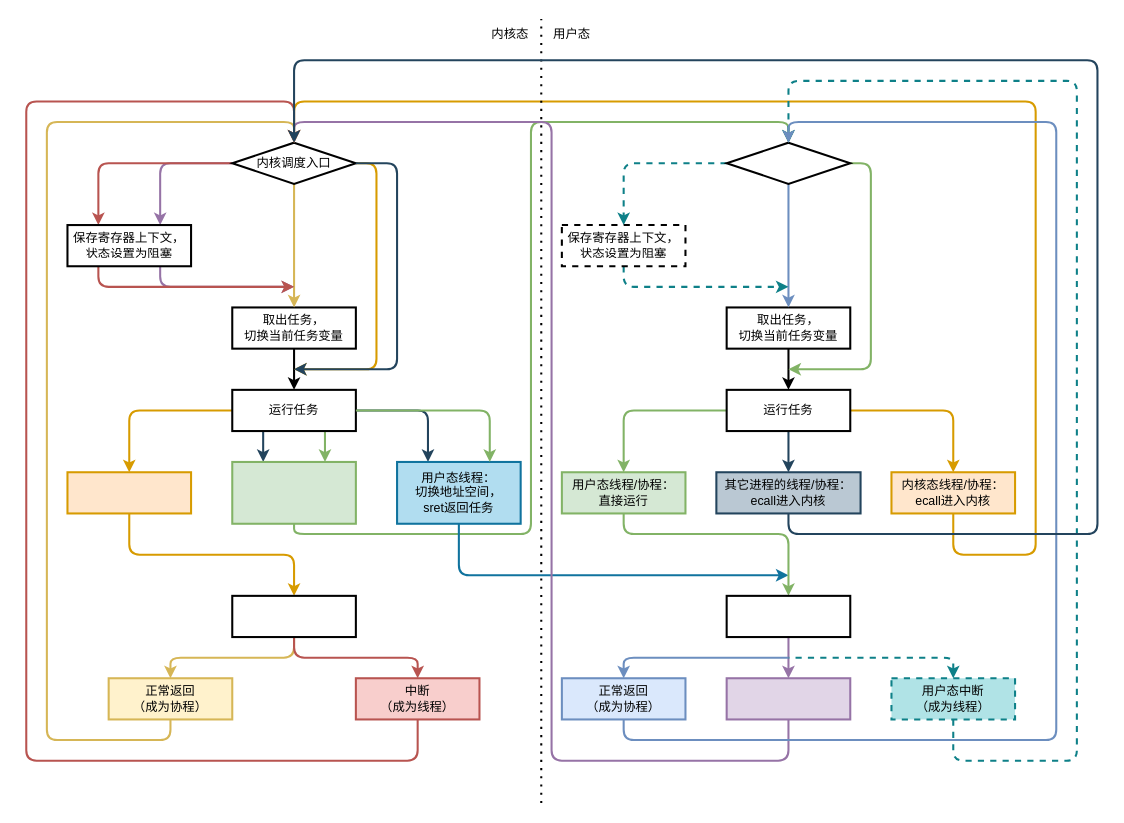
The diagram is 1124 pixels wide and 823 high, and some of its shapes have lost their labels. Here are the shapes that lost their labels. From the top down, the centre of each, then its label:
At [788,162]: "用户调度入口".
At [129,492]: "内核态线程/协程： 直接运行".
At [293,492]: "用户态协程： 切换地址空间， sret返回用户态调度器".
At [293,616]: "内核态任务".
At [788,616]: "用户态任务".
At [788,698]: "中断/异常/系统调用 （成为线程）".
